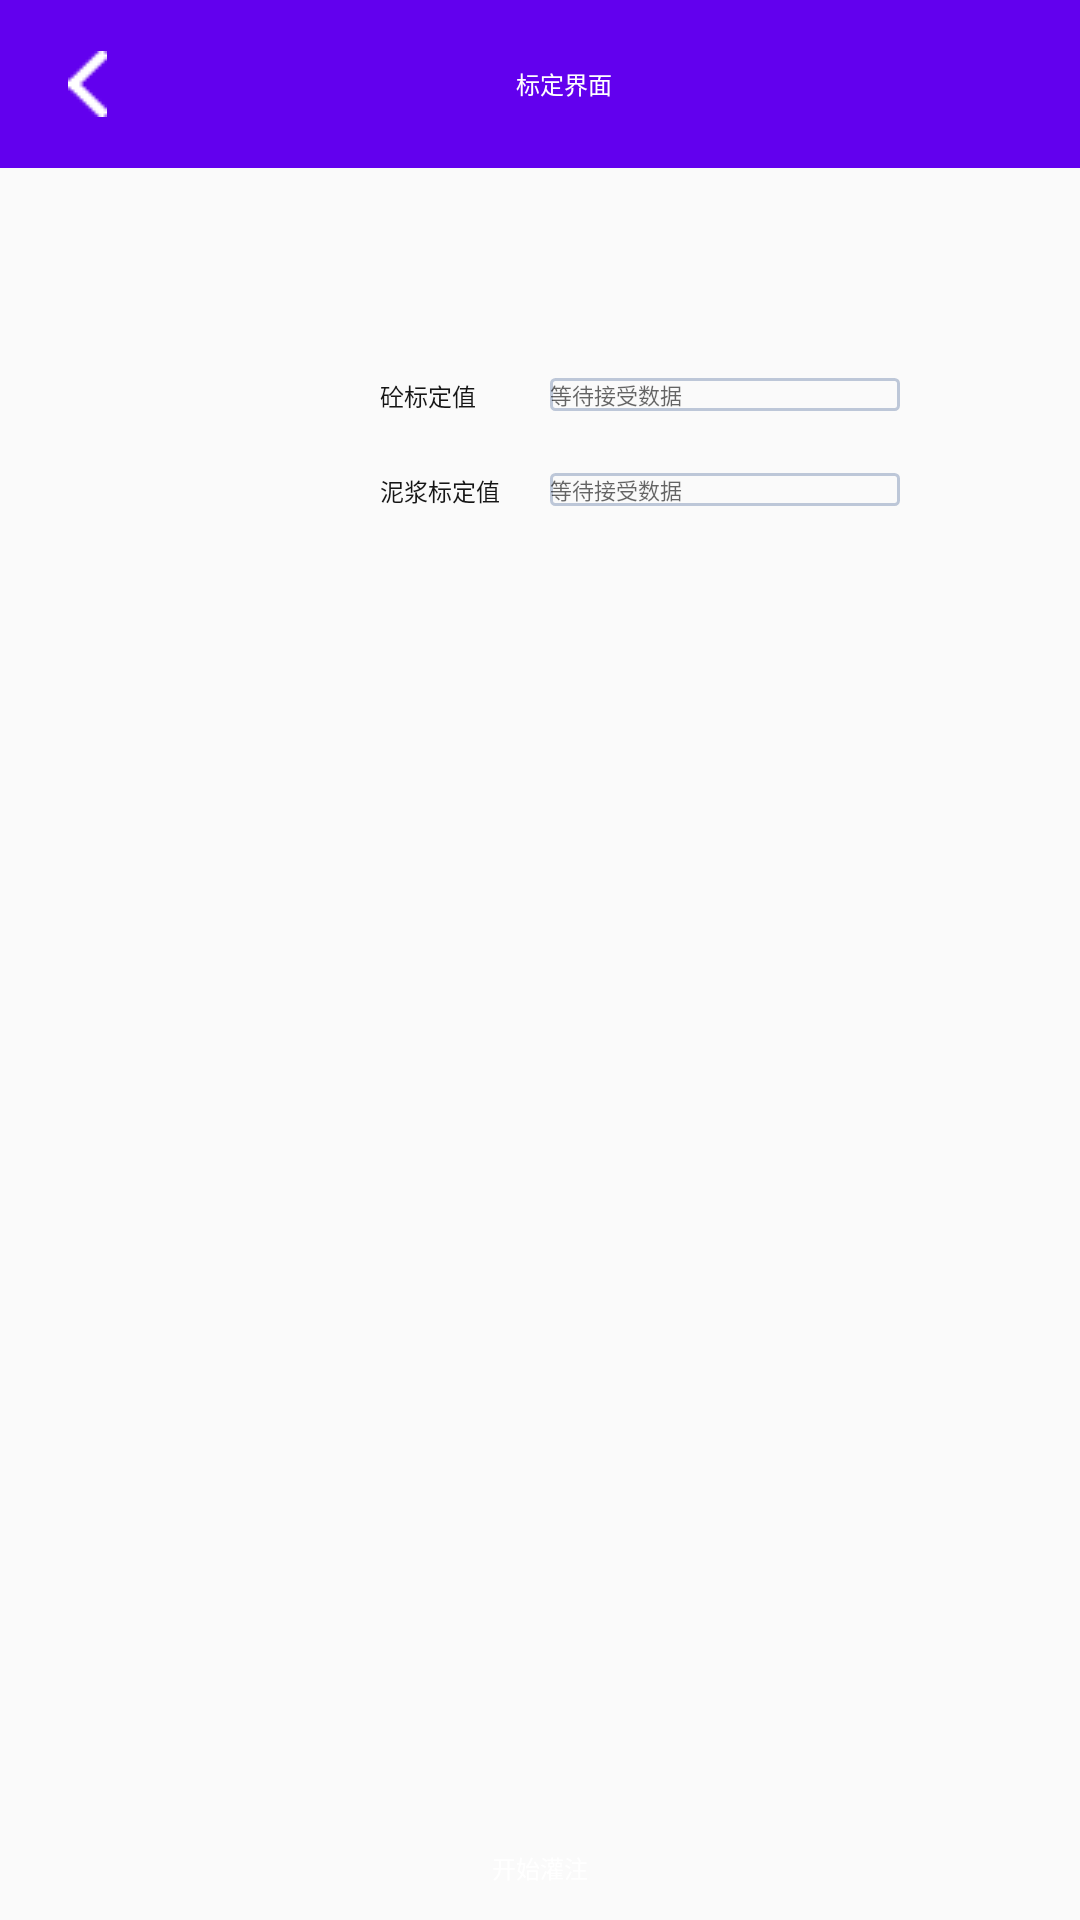

Icon bounding boxes for this 1080px x 1920px phone screenshot, format (x1, y1, x2, y2):
back: (68, 51, 107, 117)
